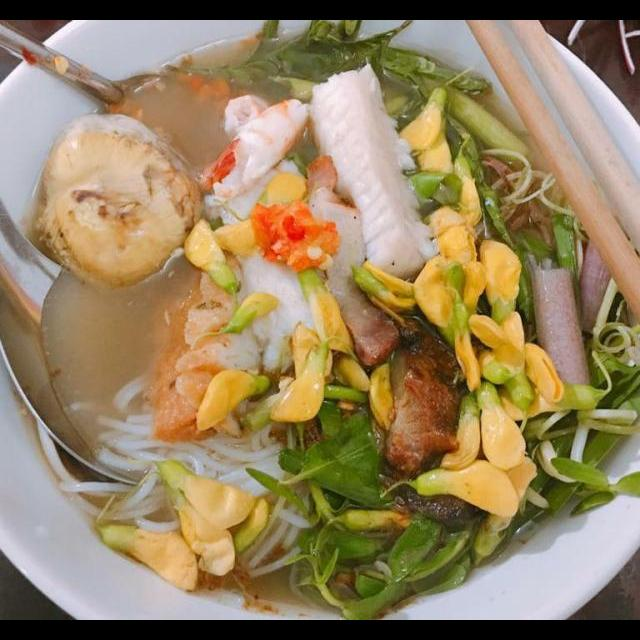bun: (87, 365, 318, 583)
ca: (303, 58, 448, 288)
thit heo quay: (303, 151, 406, 377), (379, 286, 469, 480)
tom: (187, 91, 315, 212)
